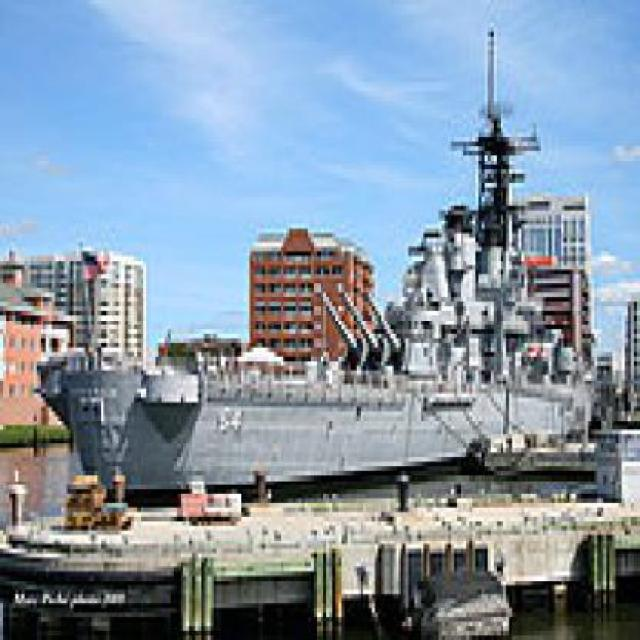warship2: (59, 6, 623, 486)
